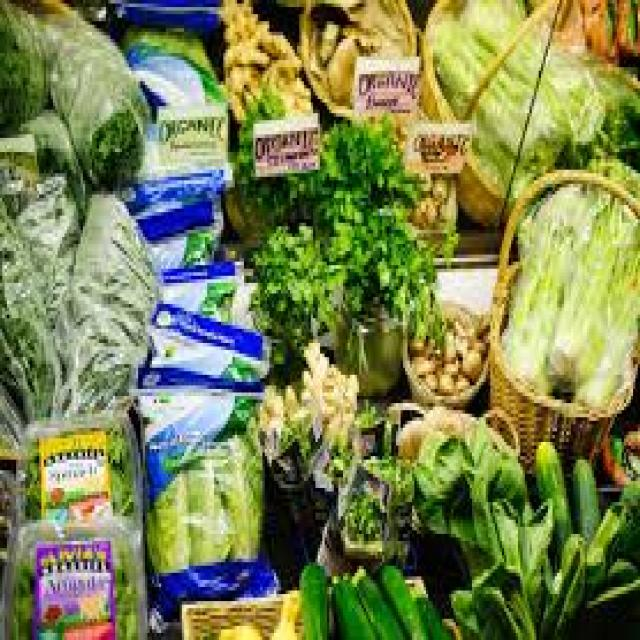biodegradable: (412, 428, 550, 636), (433, 18, 564, 184), (460, 0, 601, 149), (546, 152, 638, 378), (51, 191, 147, 407), (256, 336, 355, 470), (246, 216, 336, 357), (569, 226, 638, 400), (320, 110, 417, 223), (322, 209, 426, 311), (499, 202, 548, 393), (396, 400, 509, 460), (0, 287, 51, 418), (214, 428, 258, 559), (81, 92, 143, 184), (585, 53, 638, 152), (536, 531, 585, 637), (184, 456, 230, 559), (534, 435, 569, 562), (0, 21, 41, 127), (143, 474, 186, 566), (587, 485, 638, 555), (37, 138, 85, 212), (376, 562, 422, 637), (244, 170, 318, 216), (127, 25, 210, 60), (355, 573, 401, 636), (569, 453, 599, 541), (329, 580, 371, 636), (297, 559, 327, 637), (369, 449, 408, 506), (576, 0, 615, 57), (108, 545, 131, 637), (346, 488, 385, 541), (108, 424, 131, 513), (0, 223, 30, 290), (327, 35, 357, 99), (256, 28, 299, 67), (14, 555, 32, 637), (325, 361, 355, 410), (279, 71, 313, 113), (237, 81, 281, 113), (612, 0, 638, 50), (256, 382, 279, 435), (235, 117, 251, 191), (23, 442, 39, 516), (417, 598, 447, 637), (585, 537, 603, 594), (343, 21, 382, 46), (221, 43, 267, 64), (301, 339, 327, 375), (608, 551, 638, 580), (228, 4, 255, 36), (219, 616, 260, 637), (265, 53, 297, 78), (315, 18, 334, 60), (221, 64, 258, 81), (281, 583, 297, 619), (281, 378, 297, 414), (460, 346, 479, 375), (219, 0, 249, 18), (414, 195, 435, 220), (297, 368, 315, 396), (226, 81, 240, 117), (270, 616, 293, 637), (412, 350, 433, 368), (442, 332, 454, 361), (223, 22, 237, 43), (438, 371, 452, 389), (433, 177, 444, 198), (454, 371, 465, 389), (442, 357, 456, 371), (419, 372, 433, 386), (465, 322, 474, 343), (454, 333, 465, 347), (472, 336, 483, 350), (256, 14, 267, 28), (454, 315, 463, 332), (408, 336, 422, 346)
